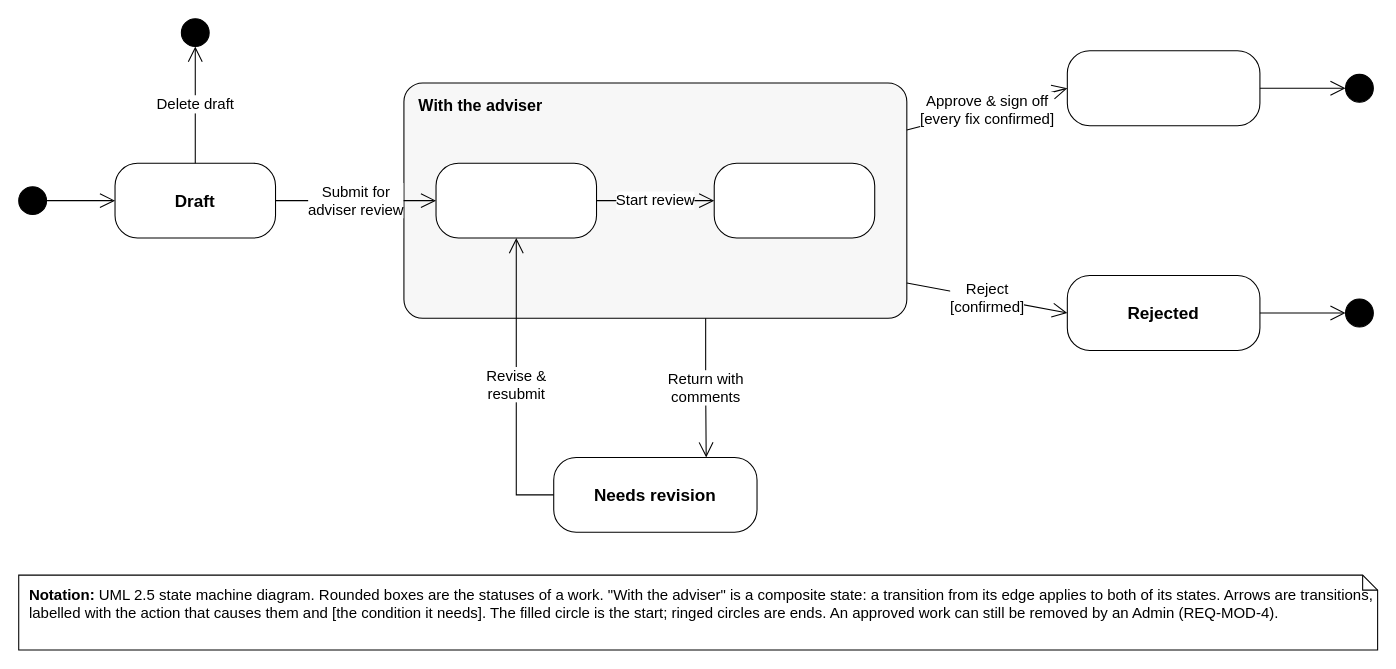
The diagram is 1396 pixels wide and 669 high, and some of its shapes have lost their labels. The shapes that lost their labels are listed below. From the top down, each one's centre as x and y in pixels, then its label:
(1163,88): Approved public to its readers
(516,200): Submitted
(794,200): Under review
